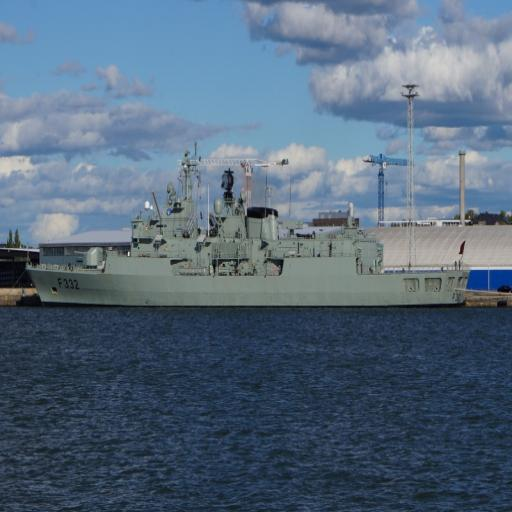Fragata: (22, 143, 473, 312)
